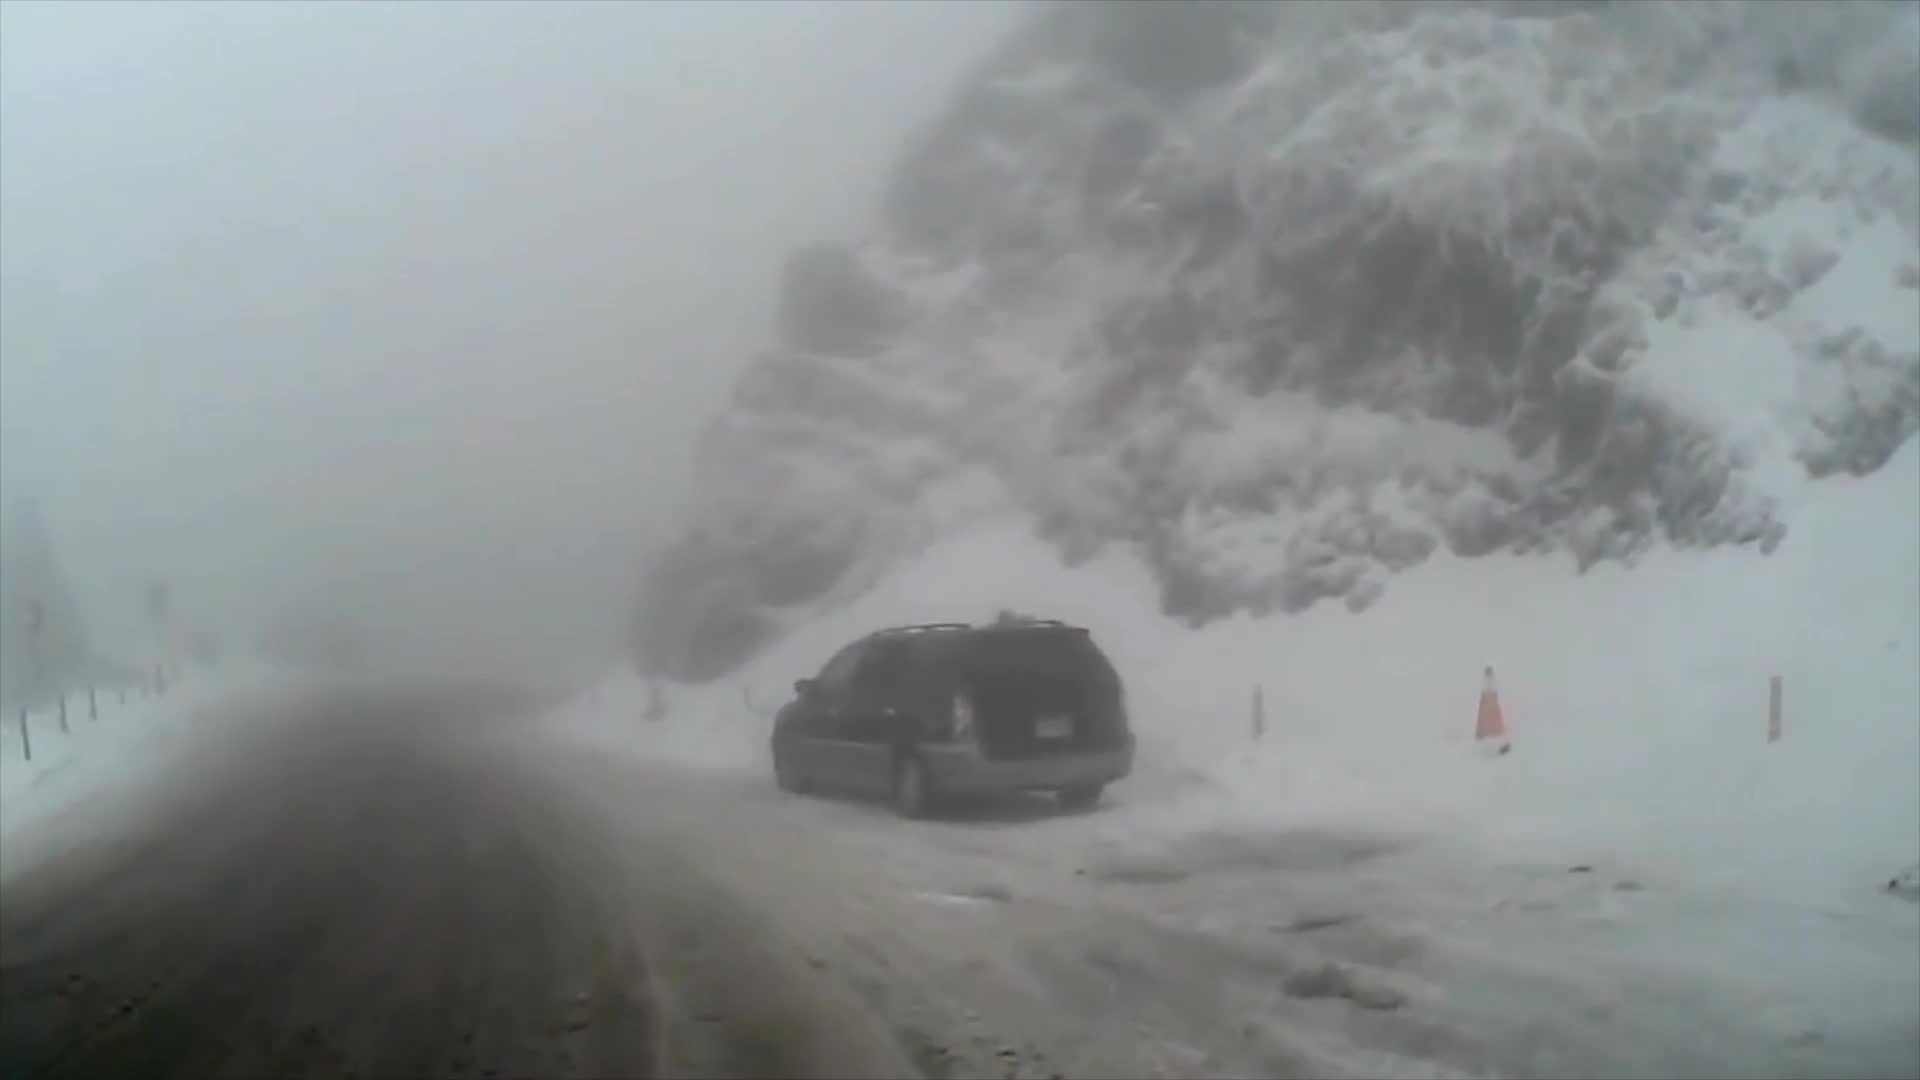vehicle: (767, 618, 1135, 818)
